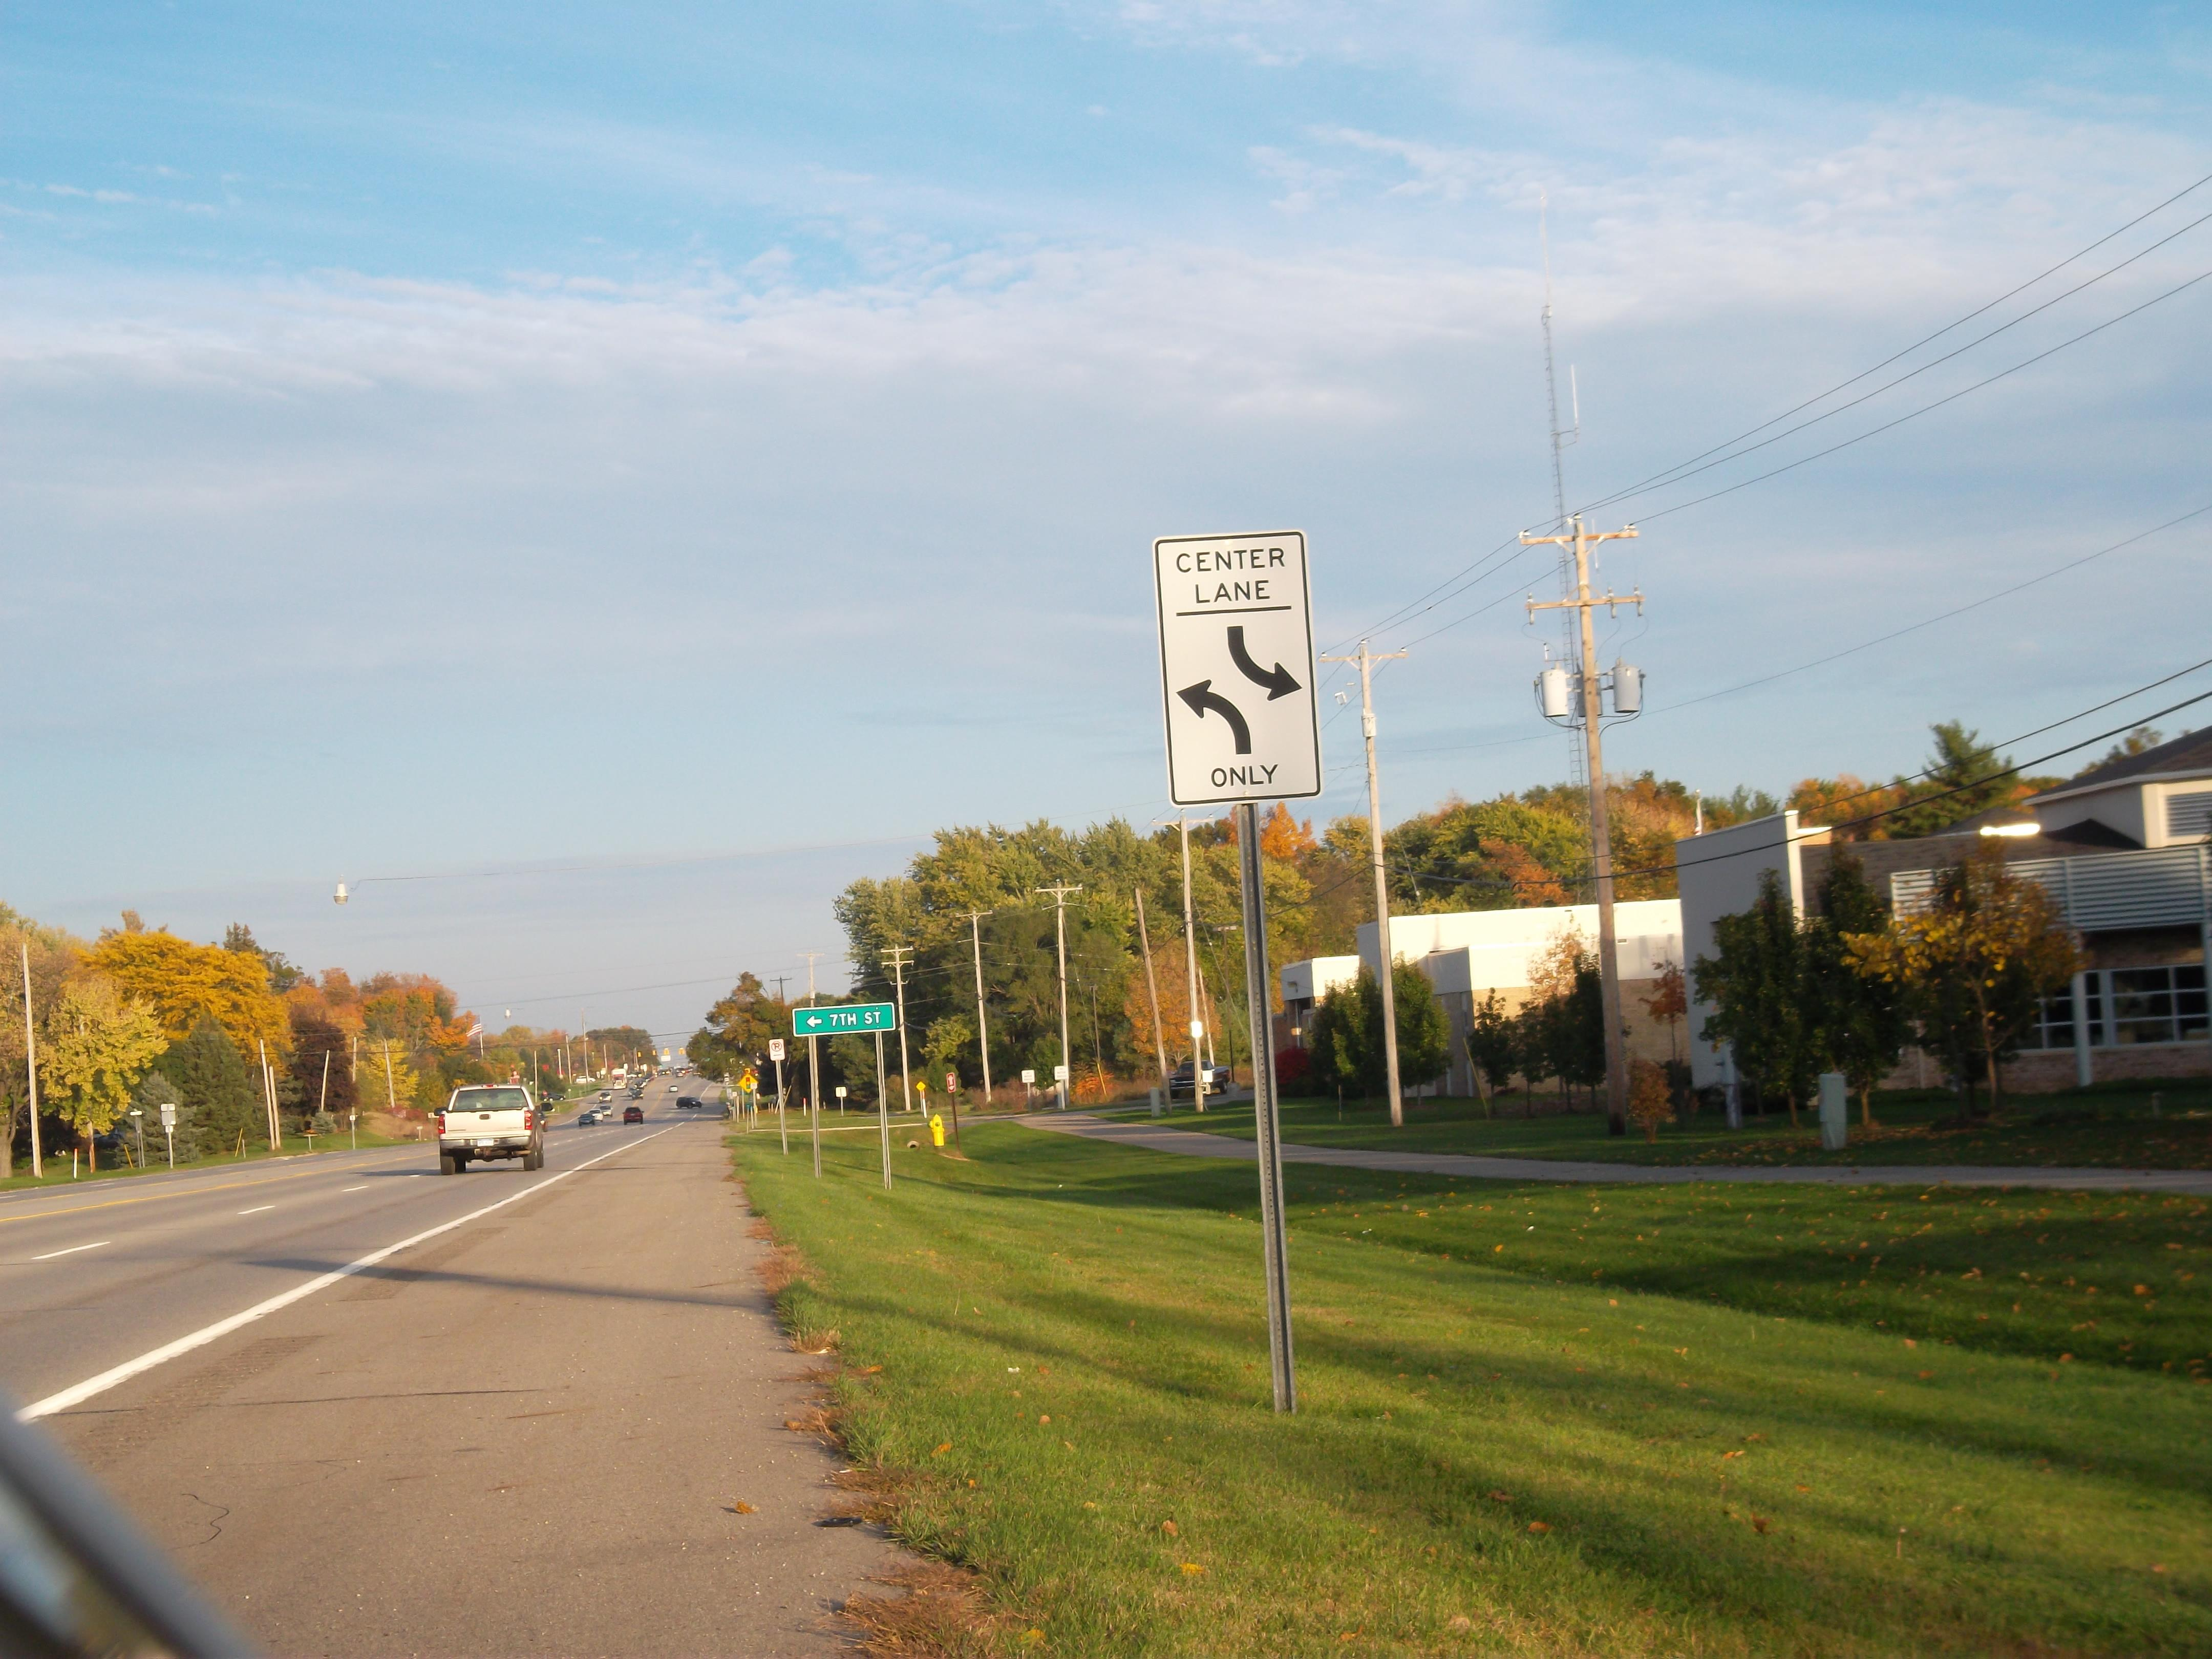regulatory: (1148, 523, 1331, 814)
warning: (738, 1073, 759, 1094)
